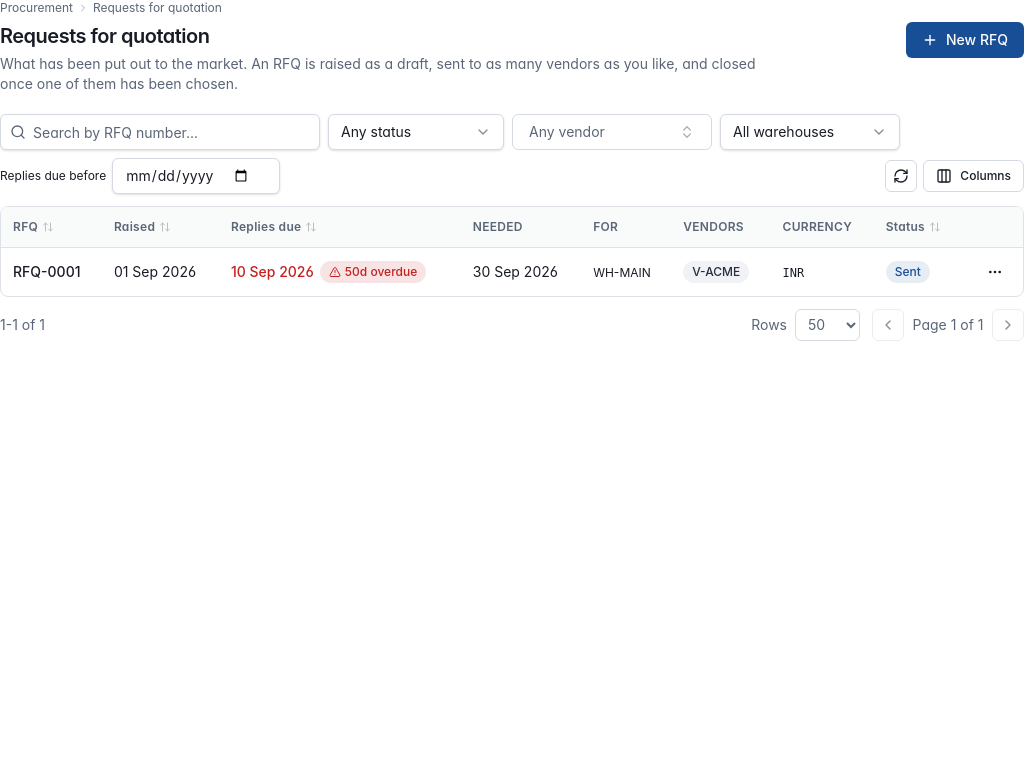
Test case: what the lifecycle commands send › will not cancel an enquiry without the reason the vendors are told
Step 1. Click the button named "More actions for RFQ-0001" → (995, 272), box x1=979 y1=256 x2=1011 y2=288
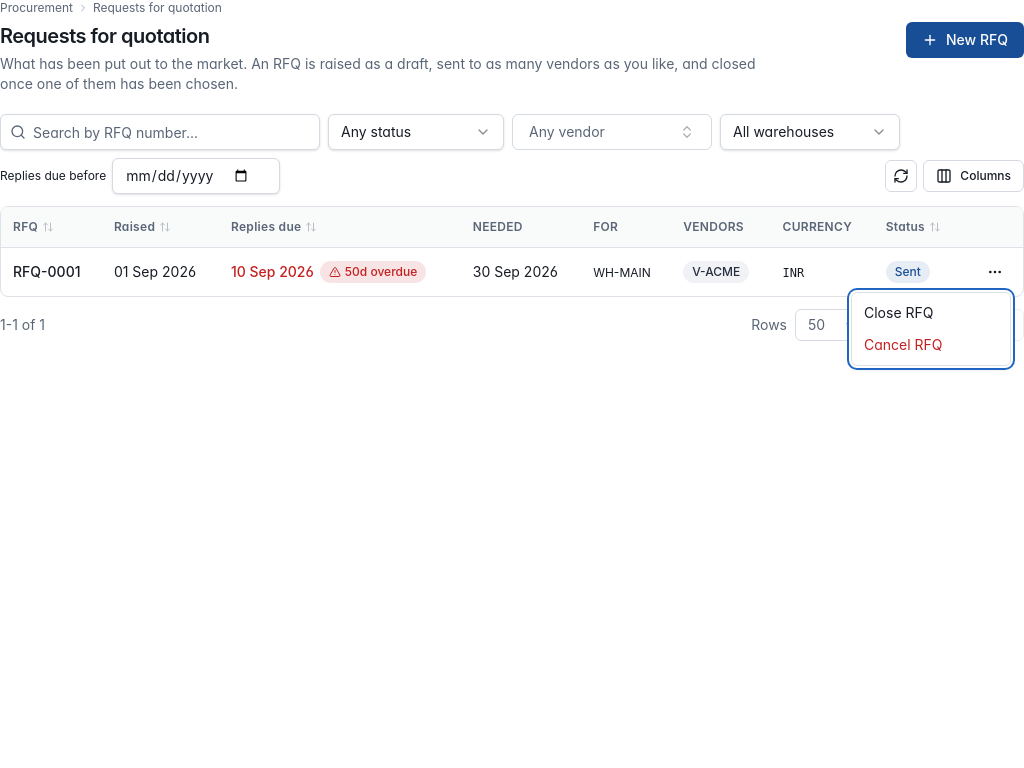
Check: the menu is shown, box x1=851 y1=292 x2=1011 y2=366
Step 2. Click the menu item "Cancel RFQ" → (903, 344), box x1=864 y1=336 x2=942 y2=353
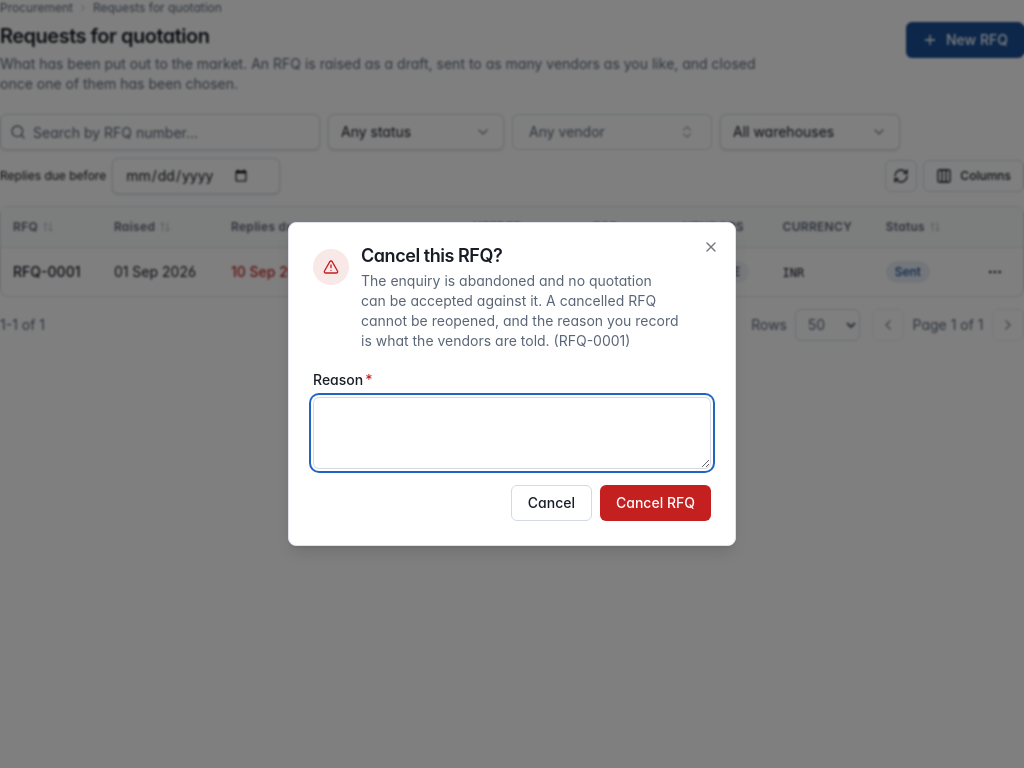
Check: the button "Cancel RFQ" is shown
Step 3. Click the button "Cancel RFQ" → (656, 503), box x1=600 y1=485 x2=711 y2=521
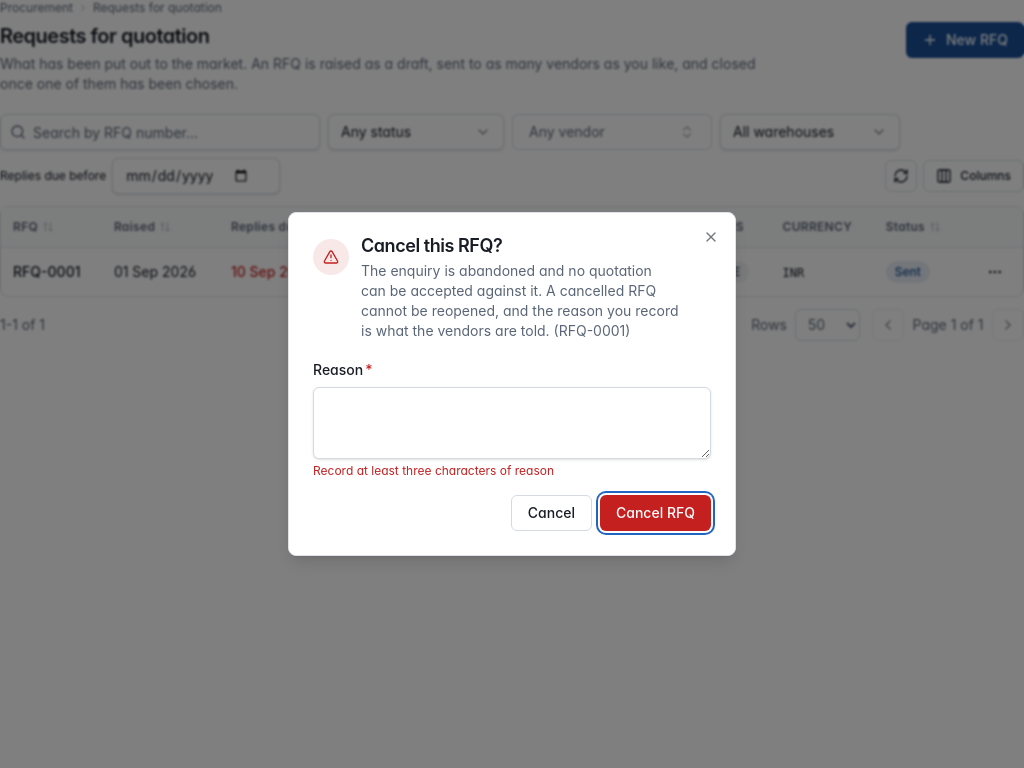
Check: the text "Record at least three characters of reason" is shown, box x1=313 y1=463 x2=554 y2=478
